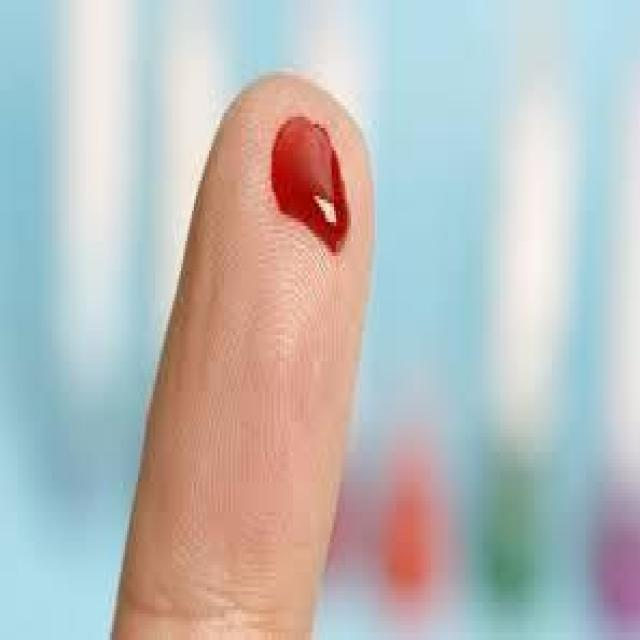flood: (268, 106, 360, 266)
